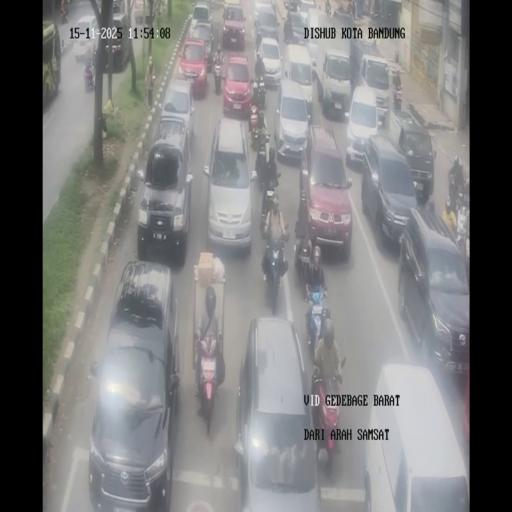car: (88, 262, 180, 507), (235, 318, 321, 509), (364, 363, 469, 509), (398, 212, 468, 380), (137, 129, 193, 263), (301, 124, 353, 259), (204, 116, 254, 254), (389, 111, 435, 198), (274, 79, 310, 161), (345, 86, 379, 165), (158, 77, 196, 147), (318, 47, 352, 120), (95, 8, 132, 73), (222, 54, 252, 118), (350, 38, 382, 90), (304, 6, 330, 68), (186, 20, 214, 72), (221, 2, 246, 49), (74, 14, 98, 62), (254, 5, 280, 48), (285, 9, 309, 46), (190, 1, 212, 28), (297, 0, 317, 16)
motorcycle: (310, 356, 343, 468), (193, 316, 224, 430), (260, 235, 290, 313), (305, 292, 330, 358), (260, 180, 283, 235), (454, 203, 470, 274), (294, 240, 312, 290), (250, 76, 266, 113), (212, 49, 223, 94), (446, 185, 459, 220), (250, 111, 260, 150), (83, 58, 95, 90), (254, 52, 266, 84), (392, 78, 402, 110), (369, 3, 381, 22), (324, 0, 332, 16), (60, 7, 68, 23), (350, 0, 356, 19), (271, 0, 278, 15)
truck: (43, 20, 62, 108), (133, 0, 157, 25)
